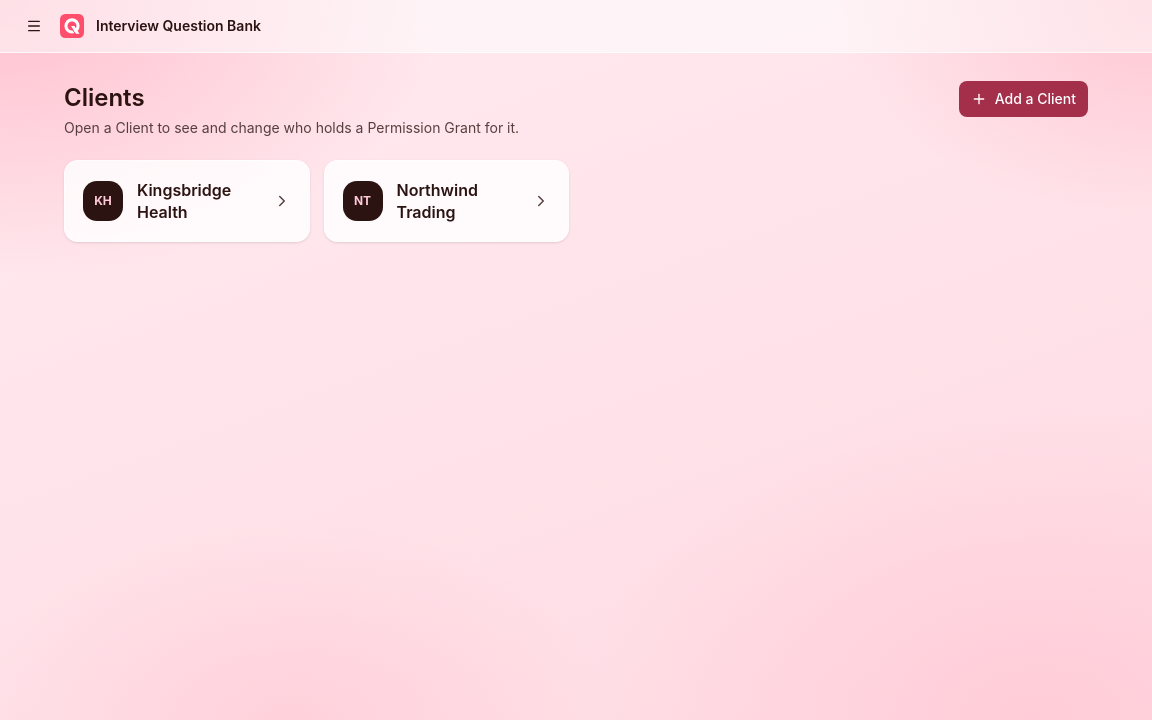
Test case: the Clients on the administration console › lists every Client, and each one's page shows the Viewers holding a Grant
Step 1. Click the link "Northwind Trading" → [437, 190], box [396,180,478,222]
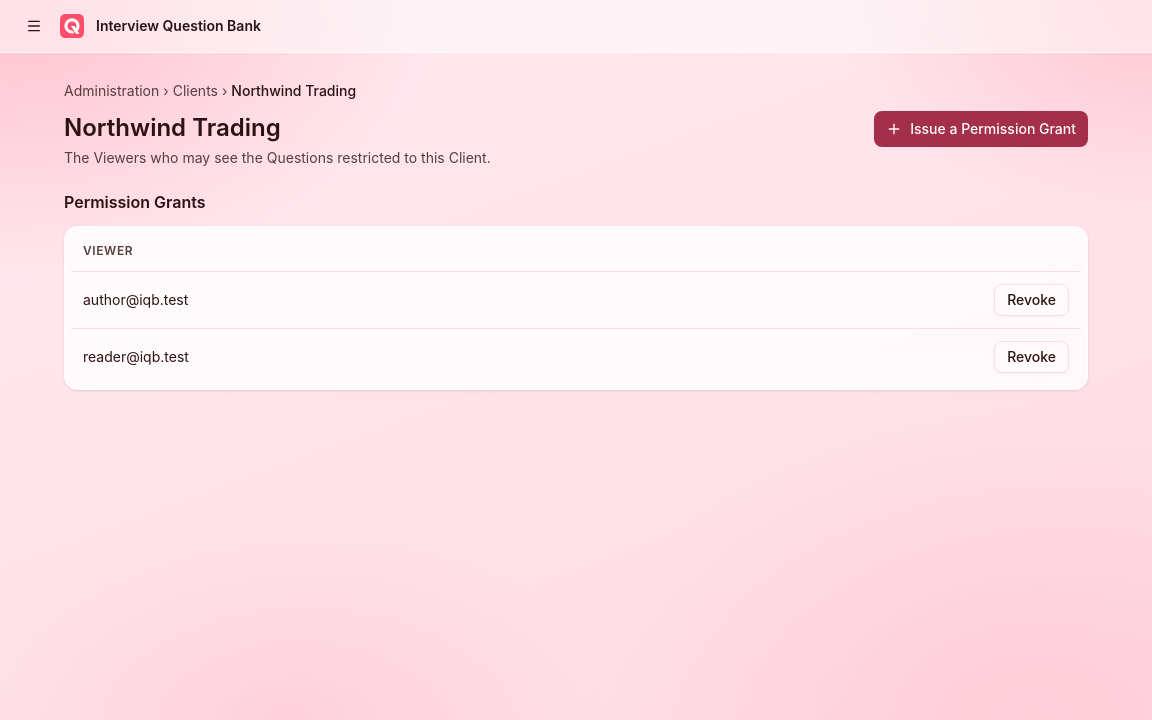
Expected: the cell "author@iqb.test" is shown, [71,272,645,328]
Expected: the cell "reader@iqb.test" is shown, [71,328,645,385]
Step 2. Click the link "Clients" → [195, 91], box [173,81,218,101]
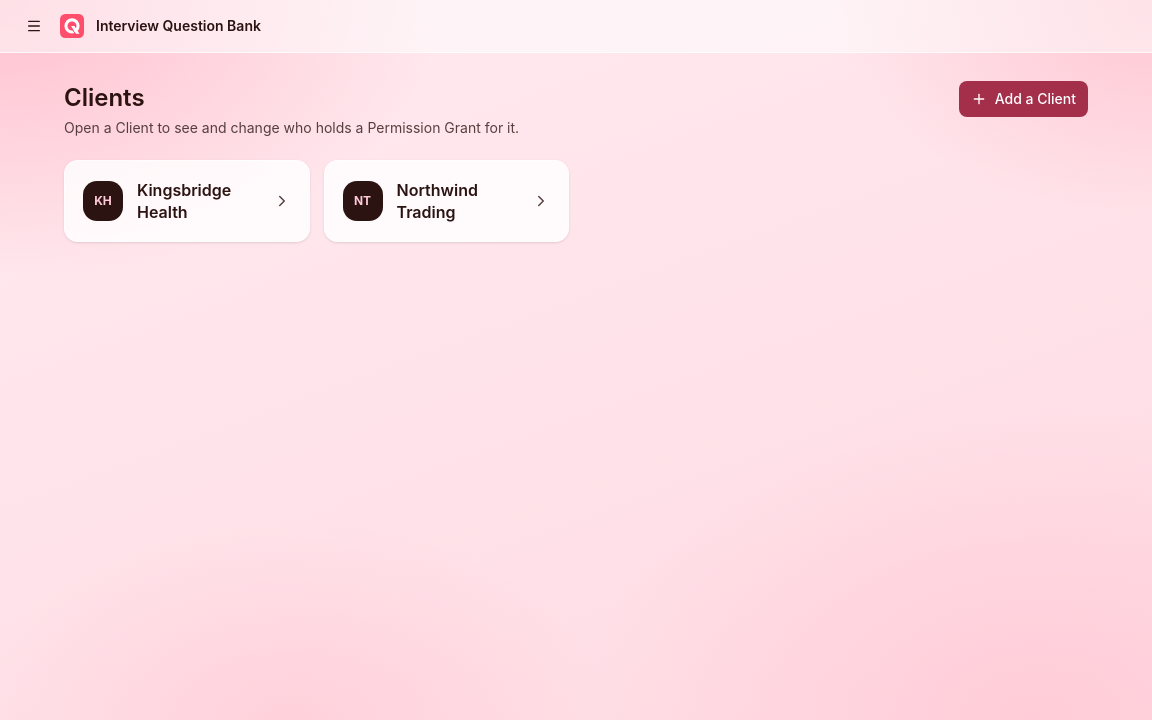
Step 3. Click the link "Kingsbridge Health" → [184, 190], box [137,180,231,222]
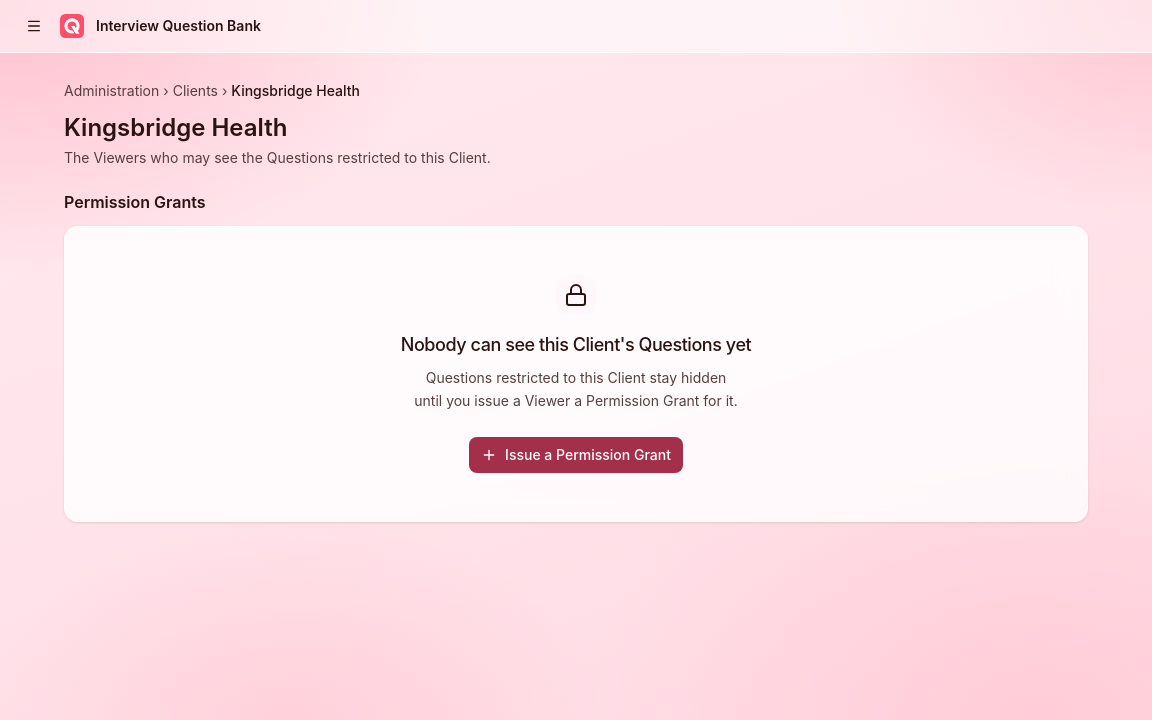
Expected: the heading "Nobody can see this Client's Questions yet" is shown, [401,331,751,359]
